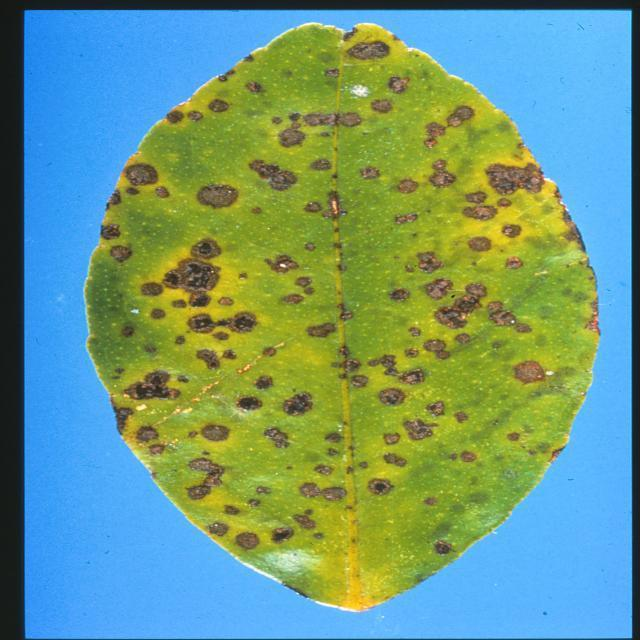Bacterial Spot: (107, 93, 564, 554)
